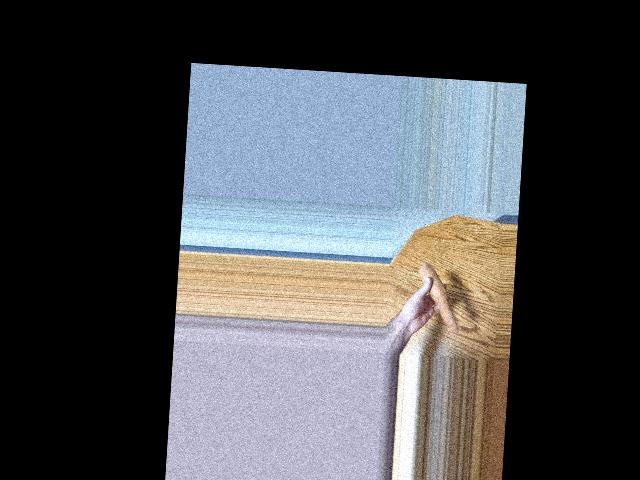sweet_potato: (417, 255, 458, 332)
